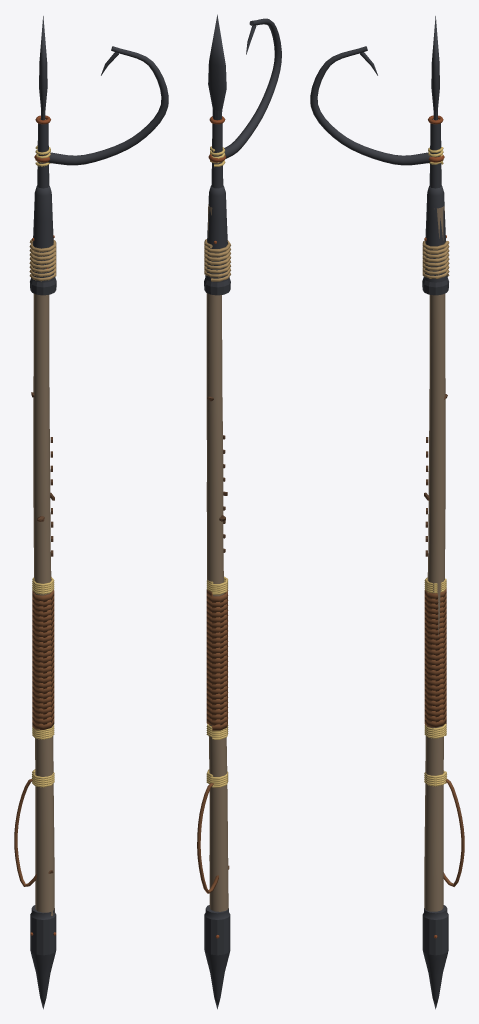
File: tool_hookpole.fbx
The picture shows the model from 3 angles, left to right: view 1: azimuth 90°, elevation 25°; view 2: azimuth 150°, elevation 25°; view 3: azimuth 270°, elevation 25°; orthographic projection.
Parts seen in each view (by area): view 1: Tool_HookPole_Pole, Tool_HookPole_HookIron, Tool_HookPole_GripWrap, Tool_HookPole_ButtShoe, Tool_HookPole_Lashing; view 2: Tool_HookPole_Pole, Tool_HookPole_HookIron, Tool_HookPole_GripWrap, Tool_HookPole_ButtShoe, Tool_HookPole_Lashing; view 3: Tool_HookPole_Pole, Tool_HookPole_HookIron, Tool_HookPole_GripWrap, Tool_HookPole_ButtShoe, Tool_HookPole_Lashing.
Part boxes in pixels (x1,y1,x2,y2): Tool_HookPole_Pole: (31,293,54,915); Tool_HookPole_HookIron: (30,16,168,295); Tool_HookPole_GripWrap: (14,577,54,886); Tool_HookPole_ButtShoe: (30,905,56,1009); Tool_HookPole_Lashing: (29,145,56,281); Tool_HookPole_Pole: (206,204,229,911); Tool_HookPole_HookIron: (204,14,281,295); Tool_HookPole_GripWrap: (197,576,228,893); Tool_HookPole_ButtShoe: (204,905,230,1009); Tool_HookPole_Lashing: (204,146,230,281); Tool_HookPole_Pole: (424,206,447,911); Tool_HookPole_HookIron: (310,16,448,295); Tool_HookPole_GripWrap: (424,577,464,886); Tool_HookPole_ButtShoe: (422,905,448,1009); Tool_HookPole_Lashing: (422,147,449,278).
Bounding box in the file's own units: 6.23 × 240 × 33.77.
